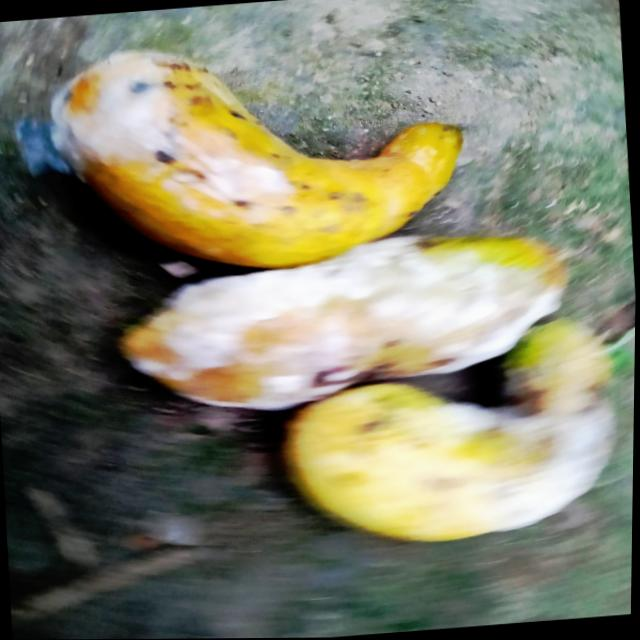Pythium-Fruit-Rot: (138, 220, 569, 421), (44, 33, 293, 219), (439, 393, 623, 538)
